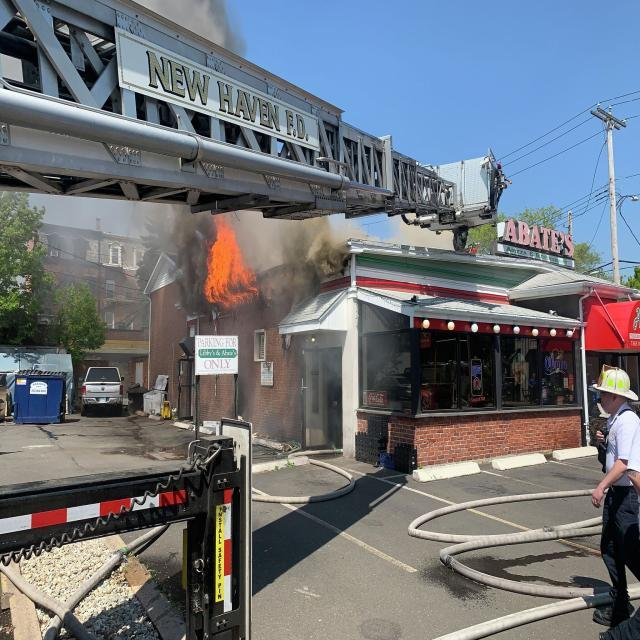Fire: (203, 213, 257, 308)
Smoke: (174, 197, 354, 382), (146, 0, 246, 58)
